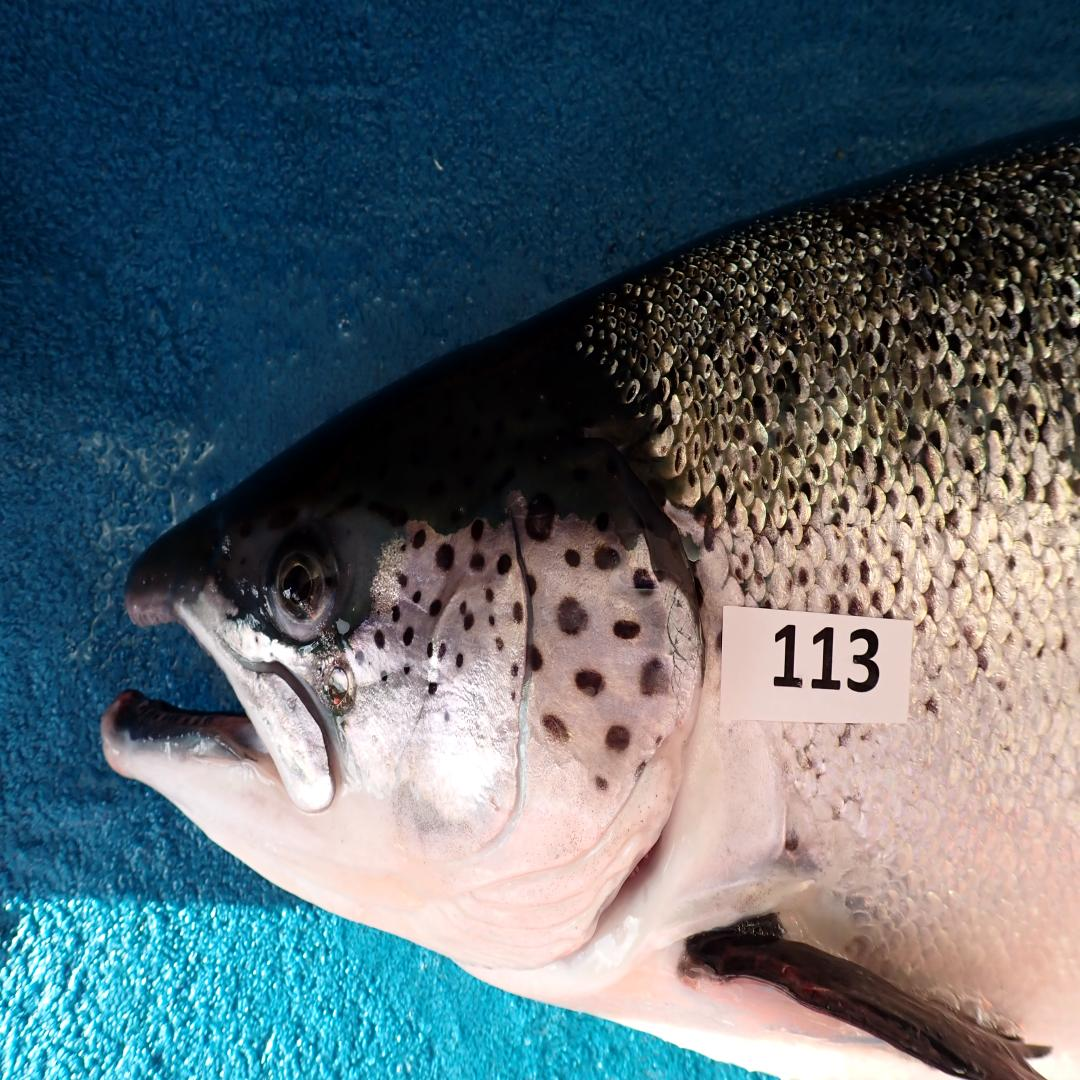roi: (336, 490, 712, 986)
